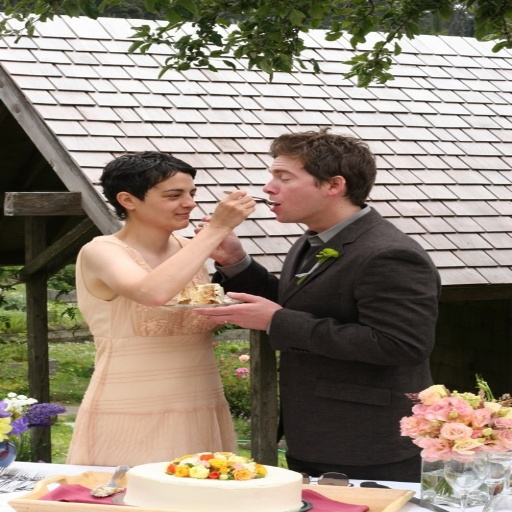hand: (192, 291, 283, 331), (192, 211, 243, 261), (204, 190, 255, 228)
